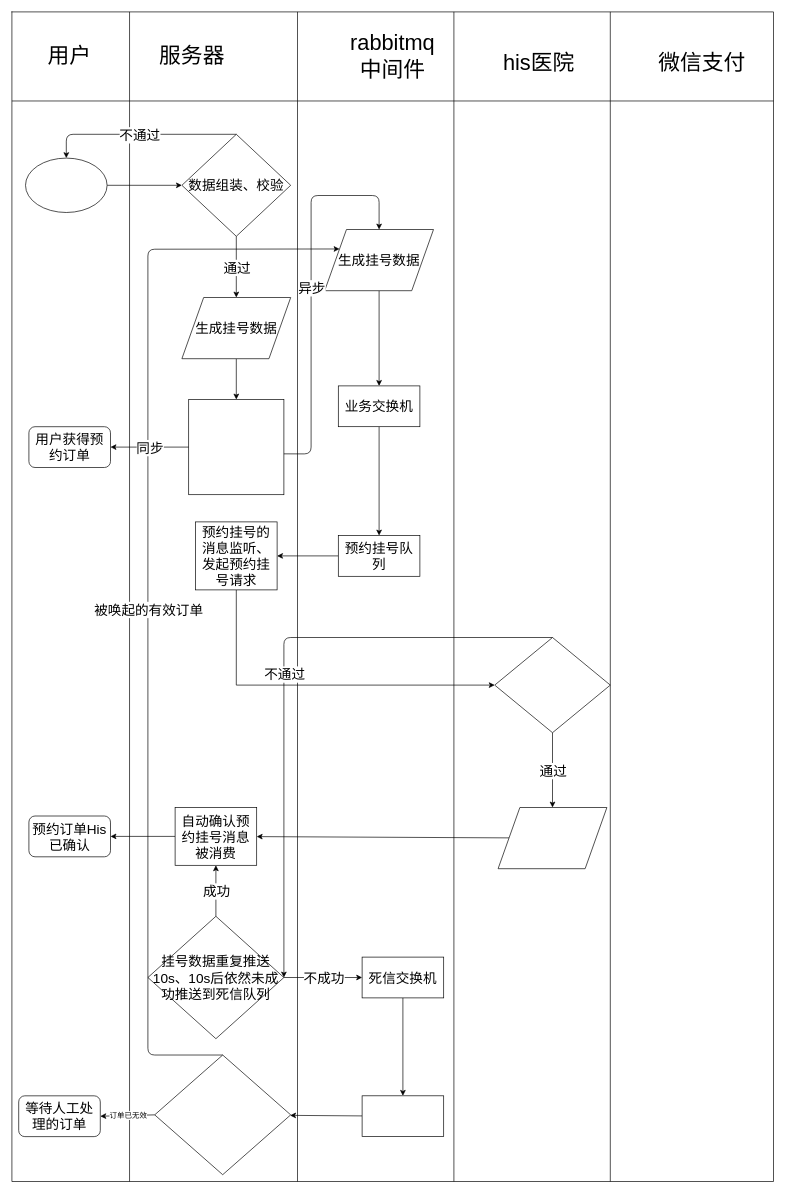
Image size: 785x1193. Some labels were removed from this diagram. The shapes that lost their labels are listed below. From the top down, each one's centre as x and y in pixels, then its label:
the point at 66,185: 发起预约挂号
the point at 236,447: 异步将预约数据发送对应的消息给预约挂号队列、同步把预约数据推送给用户
the point at 552,685: his校验、组装预约数据
the point at 552,838: 预约挂号消息
the point at 222,1114: 根据医院规则和订单有效时间通过程序批处理唤起
the point at 402,1116: 预约死信队列
